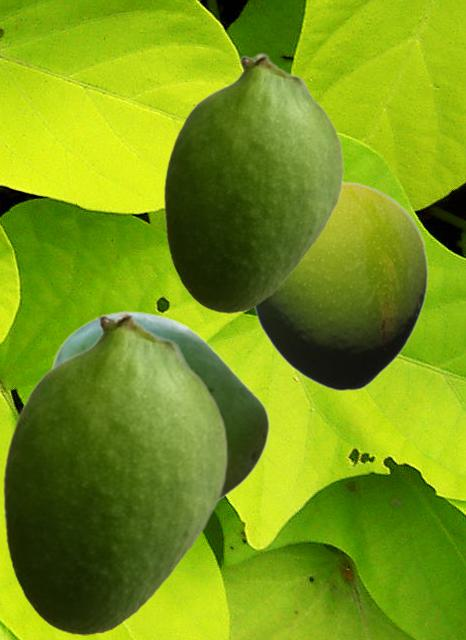green_mango: (2, 310, 227, 634), (163, 52, 343, 312), (49, 310, 269, 499), (251, 181, 428, 391)
